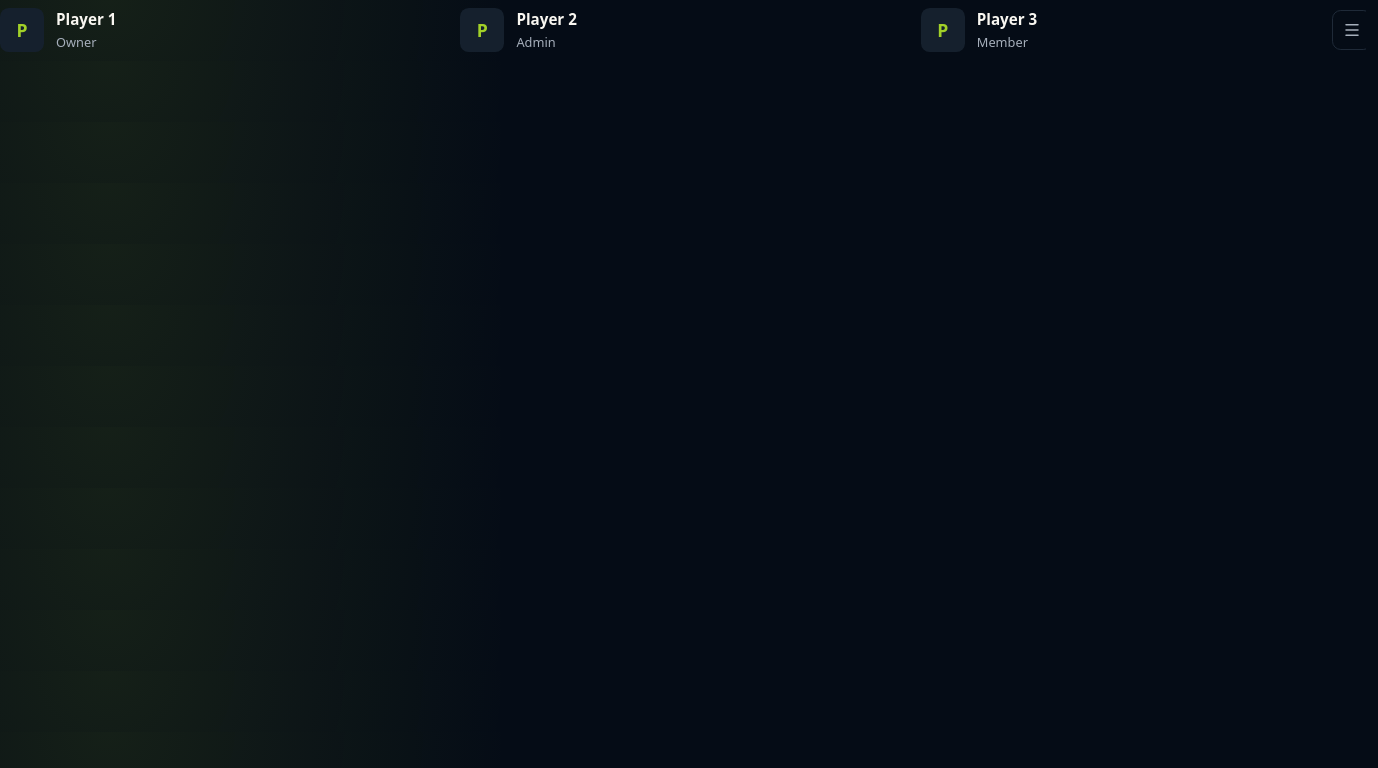
Test: member menu › lets admins remove members only, with no role changes
Click the button named "Options for Player 3". click: (1349, 30)
box: [1332,10,1366,50]
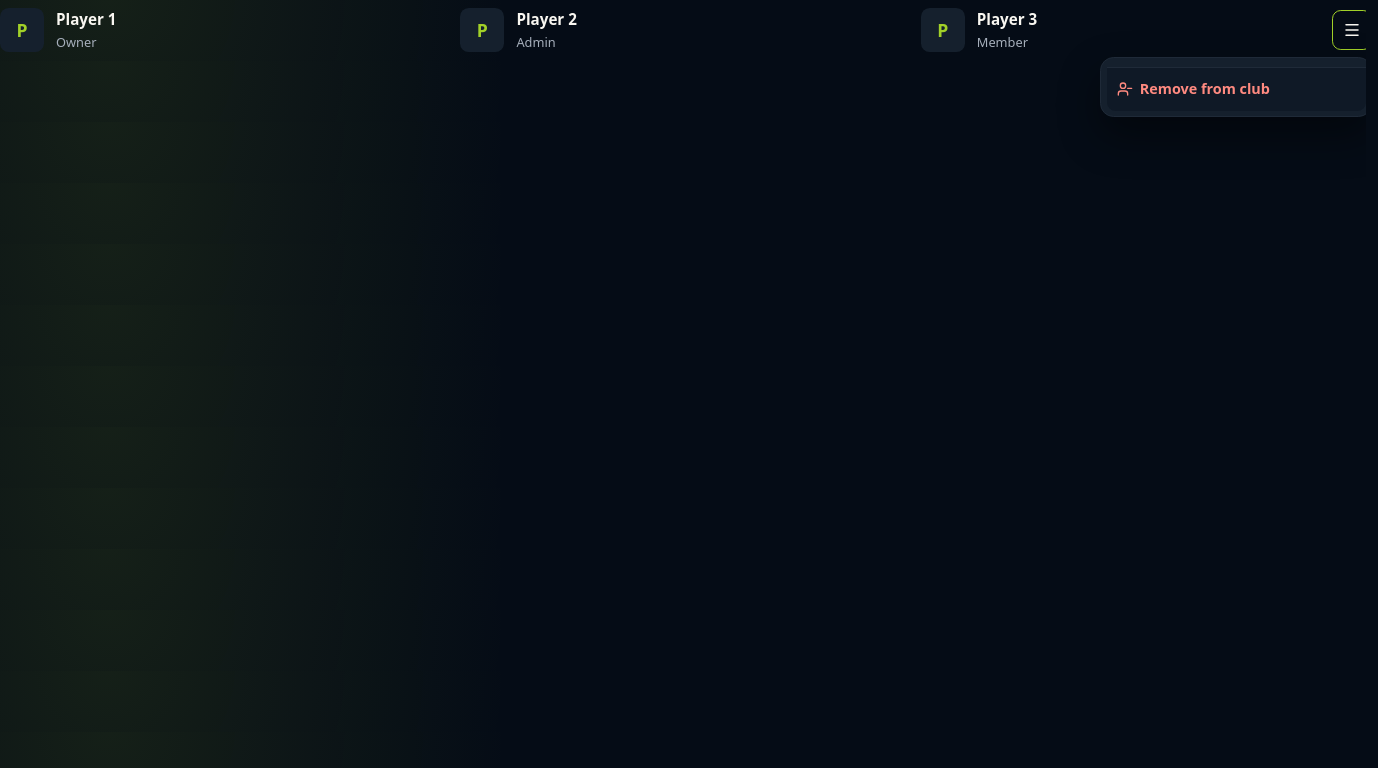
Expected: the menu item "Remove from club" is shown, [1107,67,1366,111]
